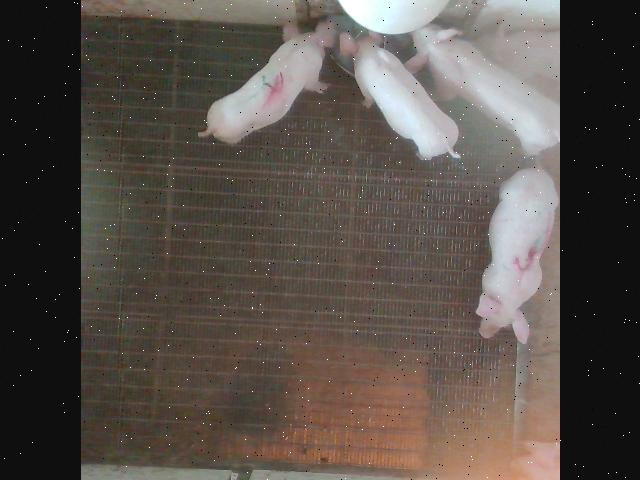pig-3: (475, 168, 557, 344)
pig-4: (198, 22, 334, 144)
